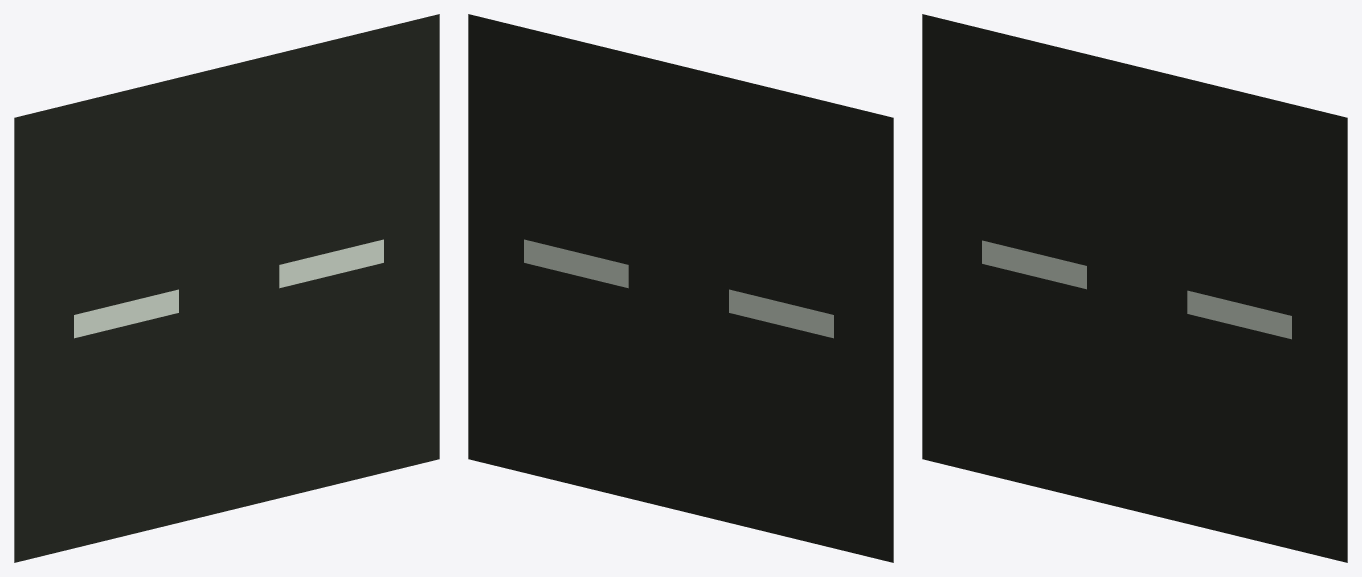
Rendered from Road006.fbx.
3 views of the same model, side by side, from view 1: azimuth 30°, elevation 25°; view 2: azimuth 150°, elevation 25°; view 3: azimuth 330°, elevation 25° (orthographic).
Visible parts, largest first — view 1: Road1.005; view 2: Road1.005; view 3: Road1.005.
Part boxes in pixels (x1,y1,x2,y2): Road1.005: [14, 14, 439, 562]; Road1.005: [468, 14, 893, 562]; Road1.005: [922, 14, 1347, 562].
Size of the model in its own units: 600 by 600 by 0.000248.
1 material, 1 textured.
